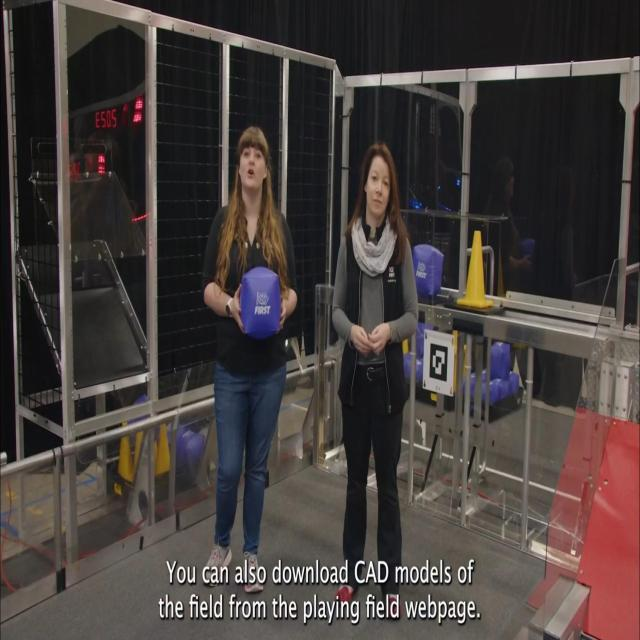frc_cone: (456, 231, 495, 314), (112, 422, 135, 495), (155, 422, 171, 480), (134, 428, 144, 468)
frc_cube: (239, 268, 281, 338), (412, 245, 443, 298), (174, 430, 205, 476), (490, 341, 512, 376), (404, 353, 424, 383), (414, 327, 434, 353), (480, 382, 499, 404), (502, 373, 521, 394), (490, 380, 509, 400)
